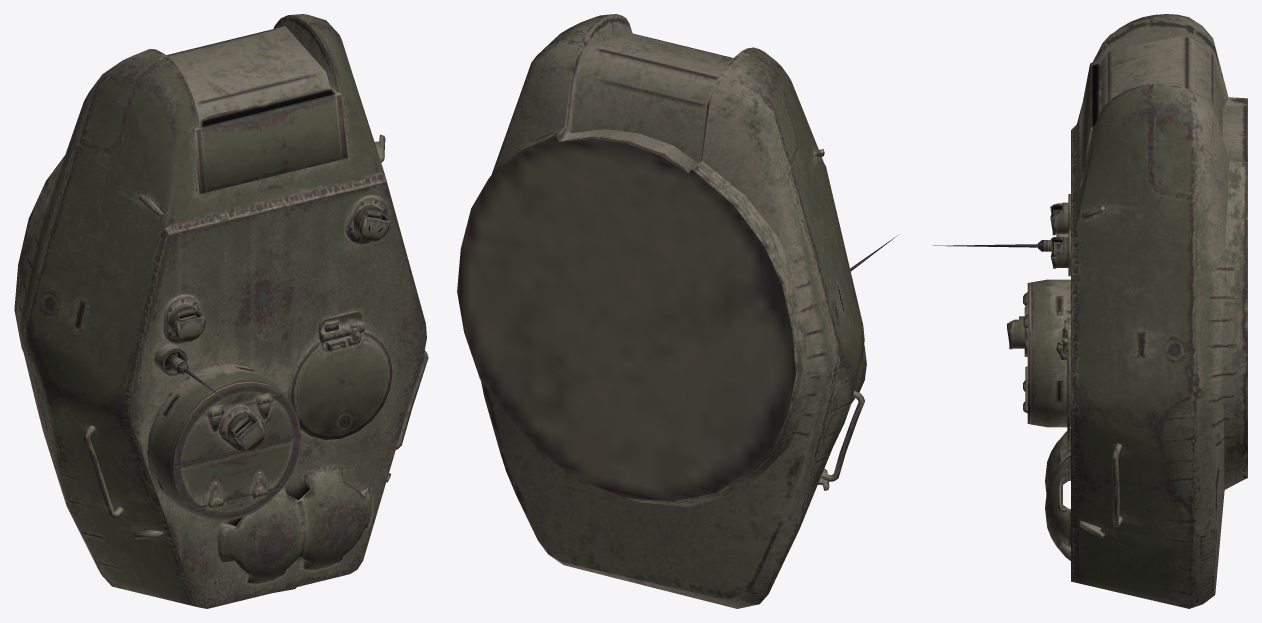
The model's file is Turret_01.glb.
3 renders of one model, left to right at view 1: azimuth 30°, elevation 25°; view 2: azimuth 150°, elevation 25°; view 3: azimuth 270°, elevation 25°, orthographic. The views are drawn at different scales.
Parts seen in each view (by area): view 1: set_0_group_0; view 2: set_0_group_0; view 3: set_0_group_0.
Boxes of the visible parts, x1,y1,x2,y2 form: set_0_group_0: (14,14,428,608); set_0_group_0: (457,14,899,608); set_0_group_0: (933,14,1247,608).
Size of the model in its own units: 2.03 by 2.83 by 1.57.
1 material, 1 textured.
